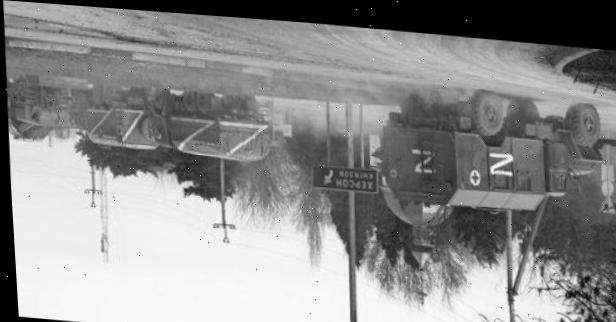truck: (377, 88, 608, 219), (147, 87, 272, 167), (69, 82, 153, 153), (5, 72, 73, 140)
